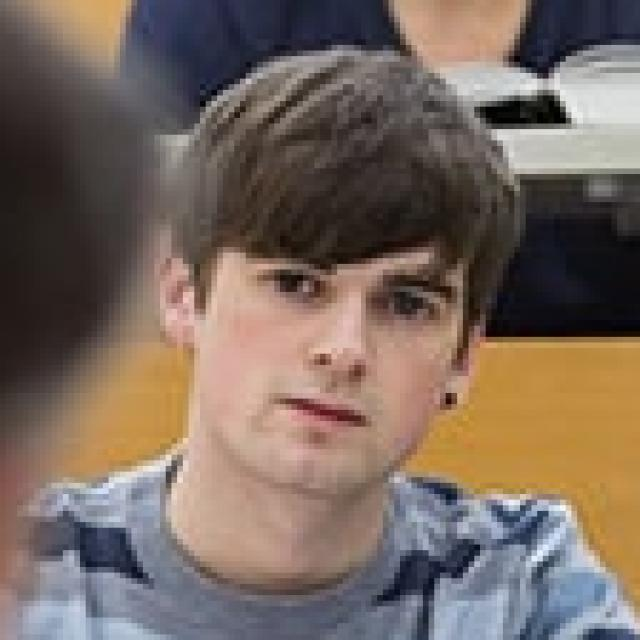Looking forward: (217, 244, 462, 492)
